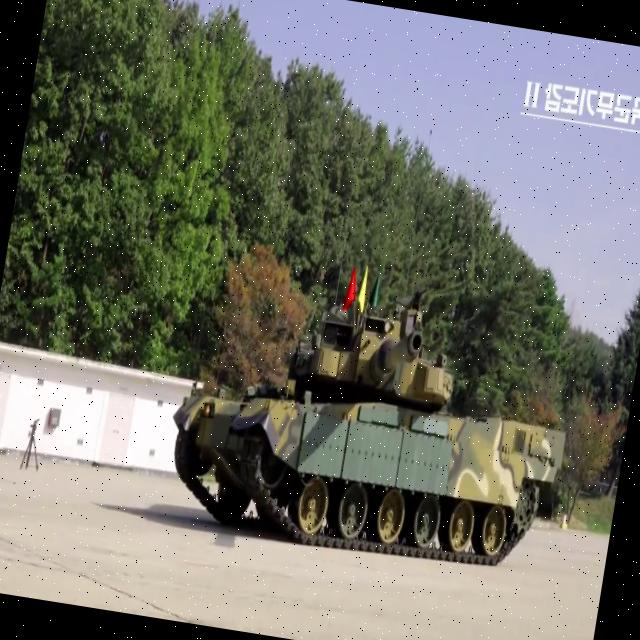korea tank: (157, 250, 590, 586)
